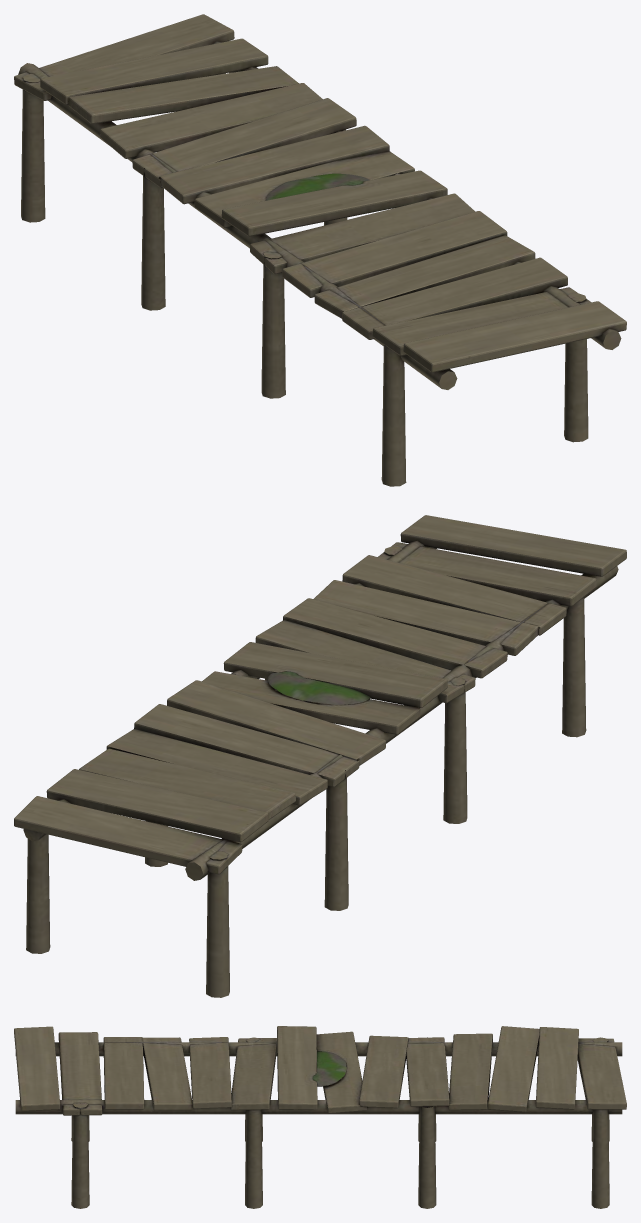
The model's file is brejo_trilha_tabuas_reta.glb.
The picture shows the model from 3 angles, top to bottom: view 1: azimuth 30°, elevation 25°; view 2: azimuth 150°, elevation 25°; view 3: azimuth 270°, elevation 25°; orthographic projection. The views are drawn at different scales.
Visible parts, largest first — view 1: brejo_trilha_tabuas_reta_tronco; view 2: brejo_trilha_tabuas_reta_tronco; view 3: brejo_trilha_tabuas_reta_tronco.
Boxes of the visible parts, x1,y1,x2,y2 form: brejo_trilha_tabuas_reta_tronco: [14, 14, 626, 486]; brejo_trilha_tabuas_reta_tronco: [14, 515, 626, 997]; brejo_trilha_tabuas_reta_tronco: [14, 1026, 626, 1208].
Bounding box in the file's own units: 1.12 × 0.8175 × 4.04.
1 material, 1 textured.
